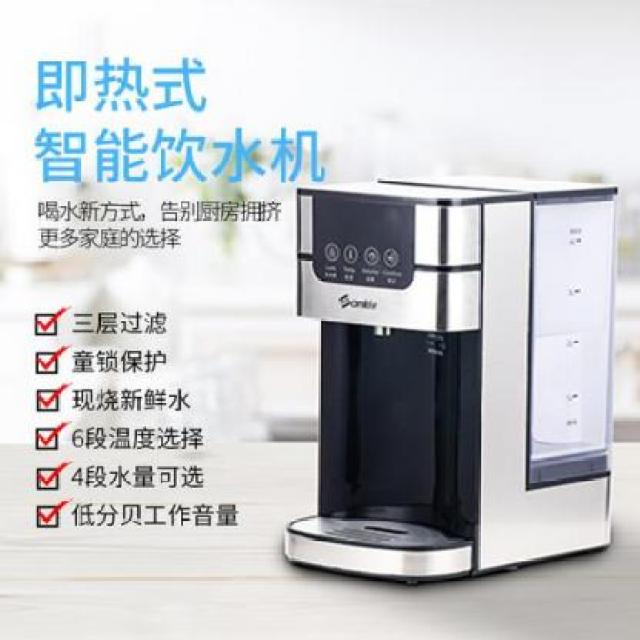cooler: (280, 174, 621, 588)
